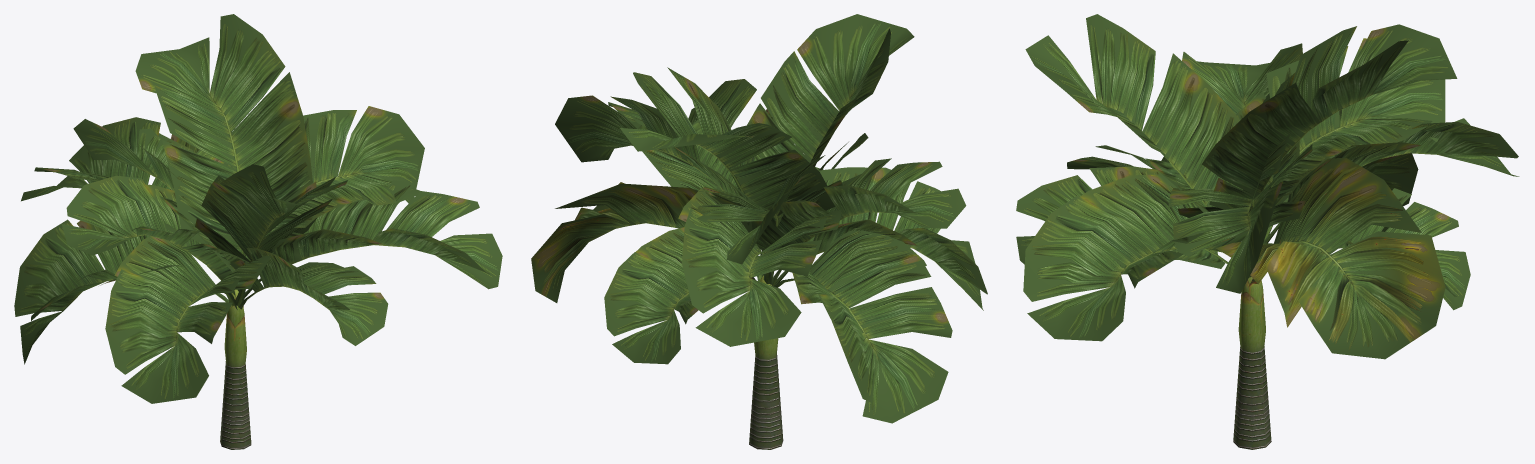
File: Arcea_palm1.fbx
The picture shows the model from 3 angles, left to right: view 1: azimuth 30°, elevation 25°; view 2: azimuth 150°, elevation 25°; view 3: azimuth 270°, elevation 25°; orthographic projection. The views are drawn at different scales.
Visible parts, largest first — view 1: polySurface142; view 2: polySurface142; view 3: polySurface142.
Boxes of the visible parts, left/top/right/bottom form: polySurface142: left=14, top=14, right=502, bottom=449; polySurface142: left=531, top=14, right=987, bottom=449; polySurface142: left=1016, top=14, right=1519, bottom=449.
Bounding box in the file's own units: 7.92 × 7.15 × 7.51.
